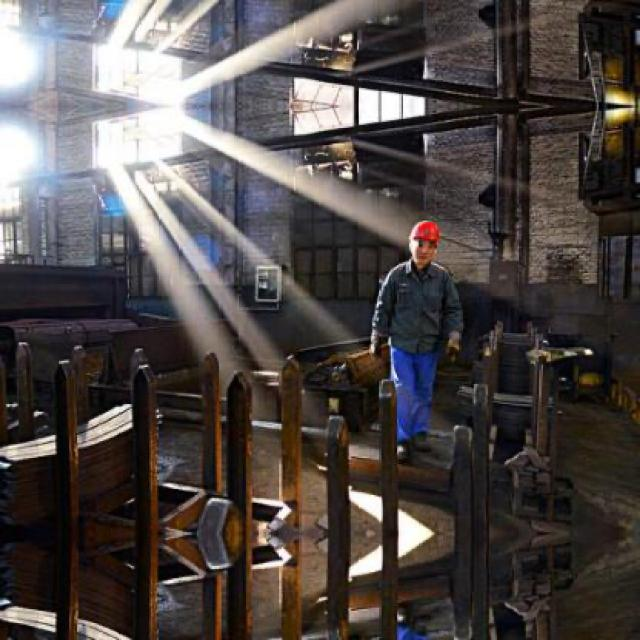helmet: (408, 211, 448, 267)
